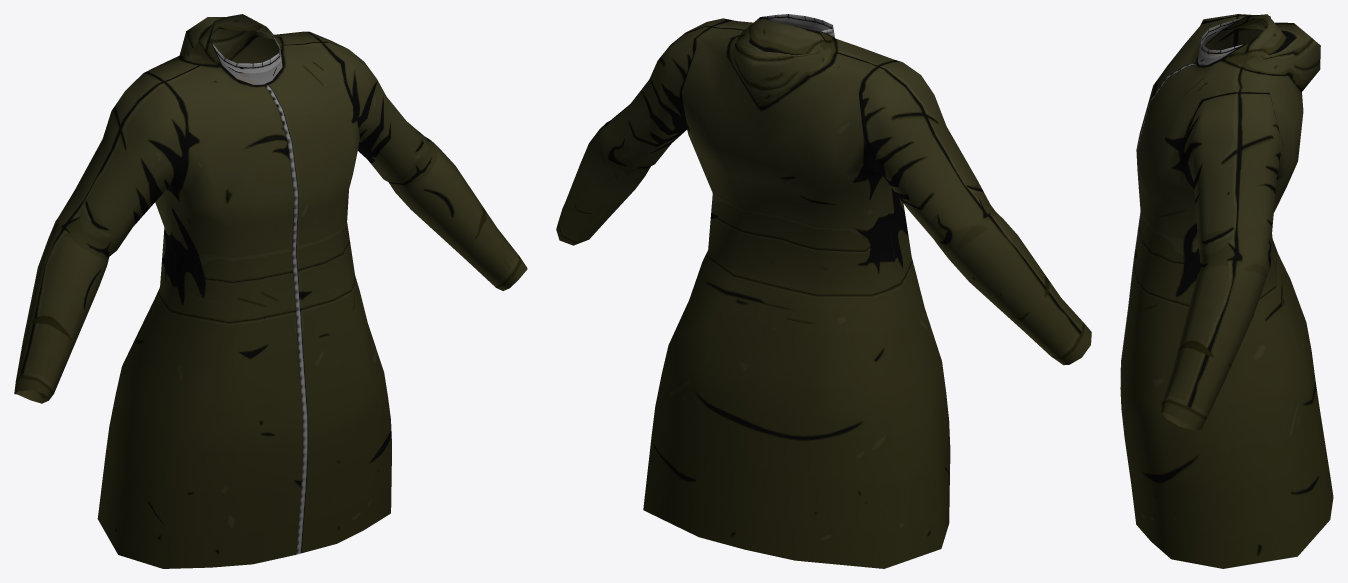
File: mod_gear_chest02.fbx
3 views of the same model, side by side, from view 1: azimuth 30°, elevation 25°; view 2: azimuth 150°, elevation 25°; view 3: azimuth 270°, elevation 25° (orthographic). The views are drawn at different scales.
Visible parts, largest first — view 1: mod_gear_chest02; view 2: mod_gear_chest02; view 3: mod_gear_chest02.
Boxes of the visible parts, x1,y1,x2,y2 form: mod_gear_chest02: (14,14,527,568); mod_gear_chest02: (556,14,1091,568); mod_gear_chest02: (1120,14,1333,568).
Size of the model in its own units: 100 by 92.08 by 36.7.
